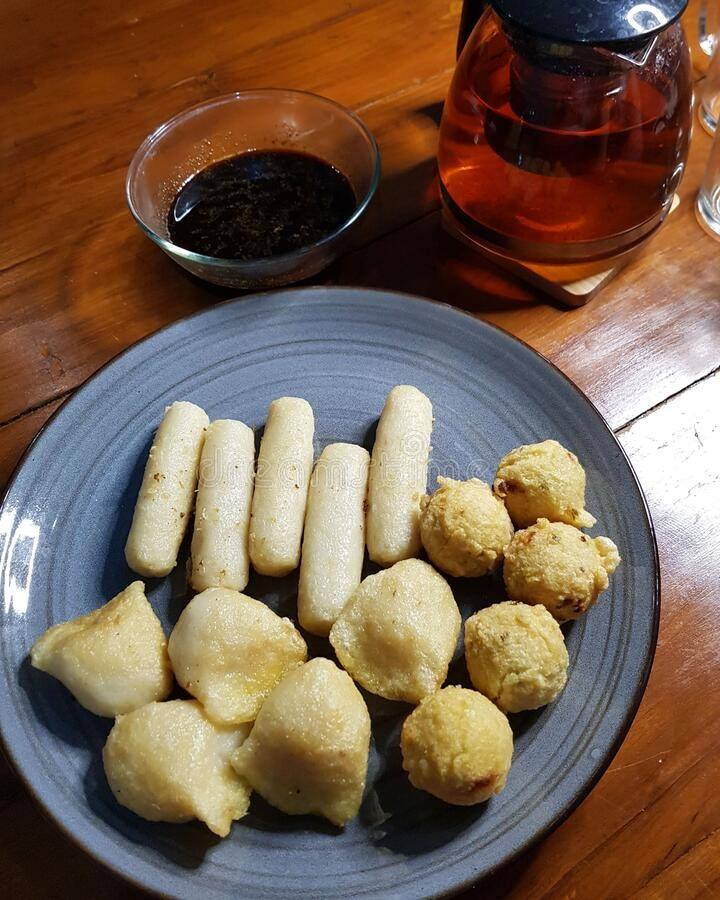pempek: (33, 386, 624, 838)
